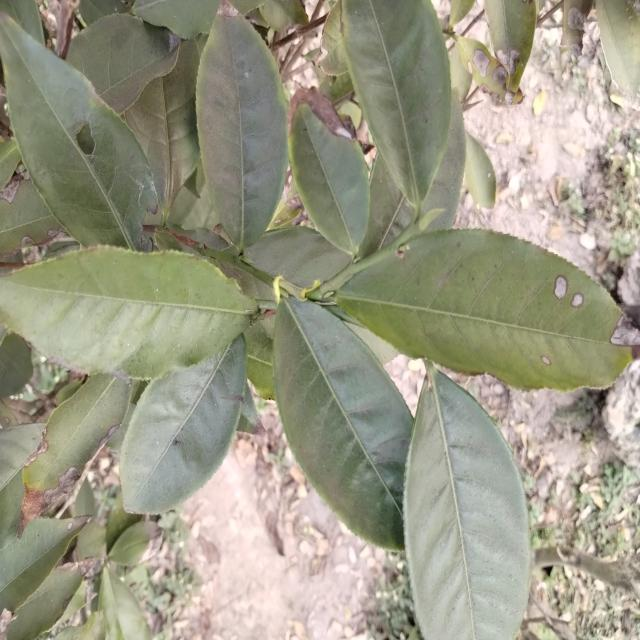Leaf: (334, 229, 635, 391), (0, 14, 159, 250), (273, 296, 413, 549), (404, 367, 530, 640), (0, 247, 256, 379), (341, 0, 450, 209), (120, 337, 246, 513), (196, 13, 288, 252), (19, 374, 131, 531), (124, 41, 200, 221), (288, 88, 369, 256), (66, 13, 178, 113), (0, 516, 89, 613), (422, 92, 466, 231), (0, 423, 45, 549), (6, 567, 82, 640), (0, 173, 64, 257), (360, 155, 413, 256), (484, 0, 537, 91), (596, 0, 640, 99), (99, 568, 152, 640), (133, 0, 222, 39), (456, 37, 510, 99), (464, 133, 496, 214), (109, 521, 162, 566), (106, 492, 143, 551), (319, 3, 347, 76), (0, 141, 20, 190), (74, 478, 95, 516), (450, 0, 475, 26), (228, 0, 265, 13), (510, 89, 522, 103)
